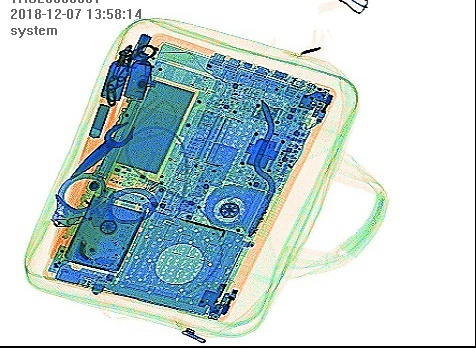handcuffs: (49, 170, 158, 229)
scissors: (69, 84, 177, 178)
